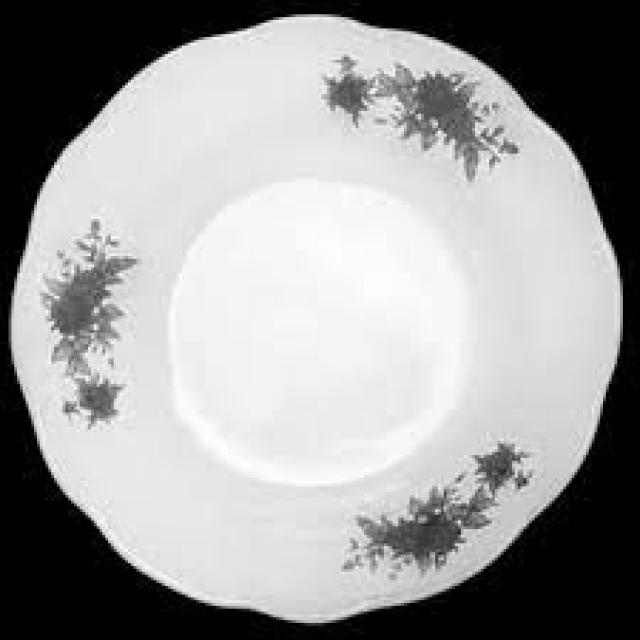dish: (5, 17, 636, 629)
